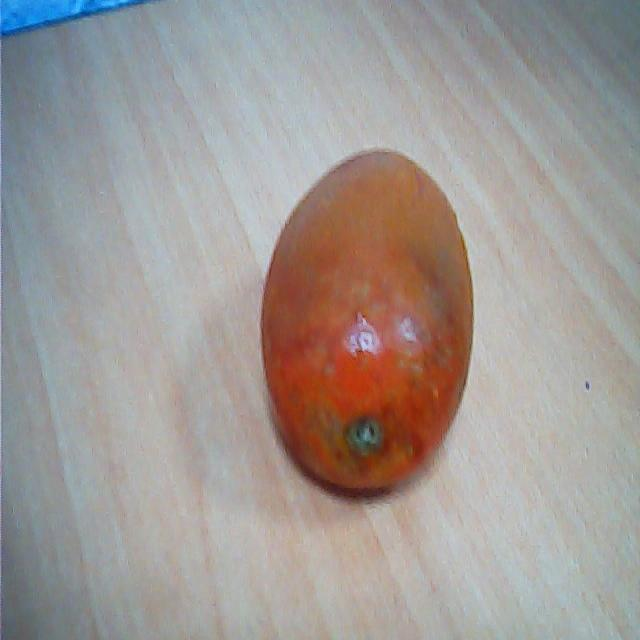defectuoso: (257, 142, 479, 500)
